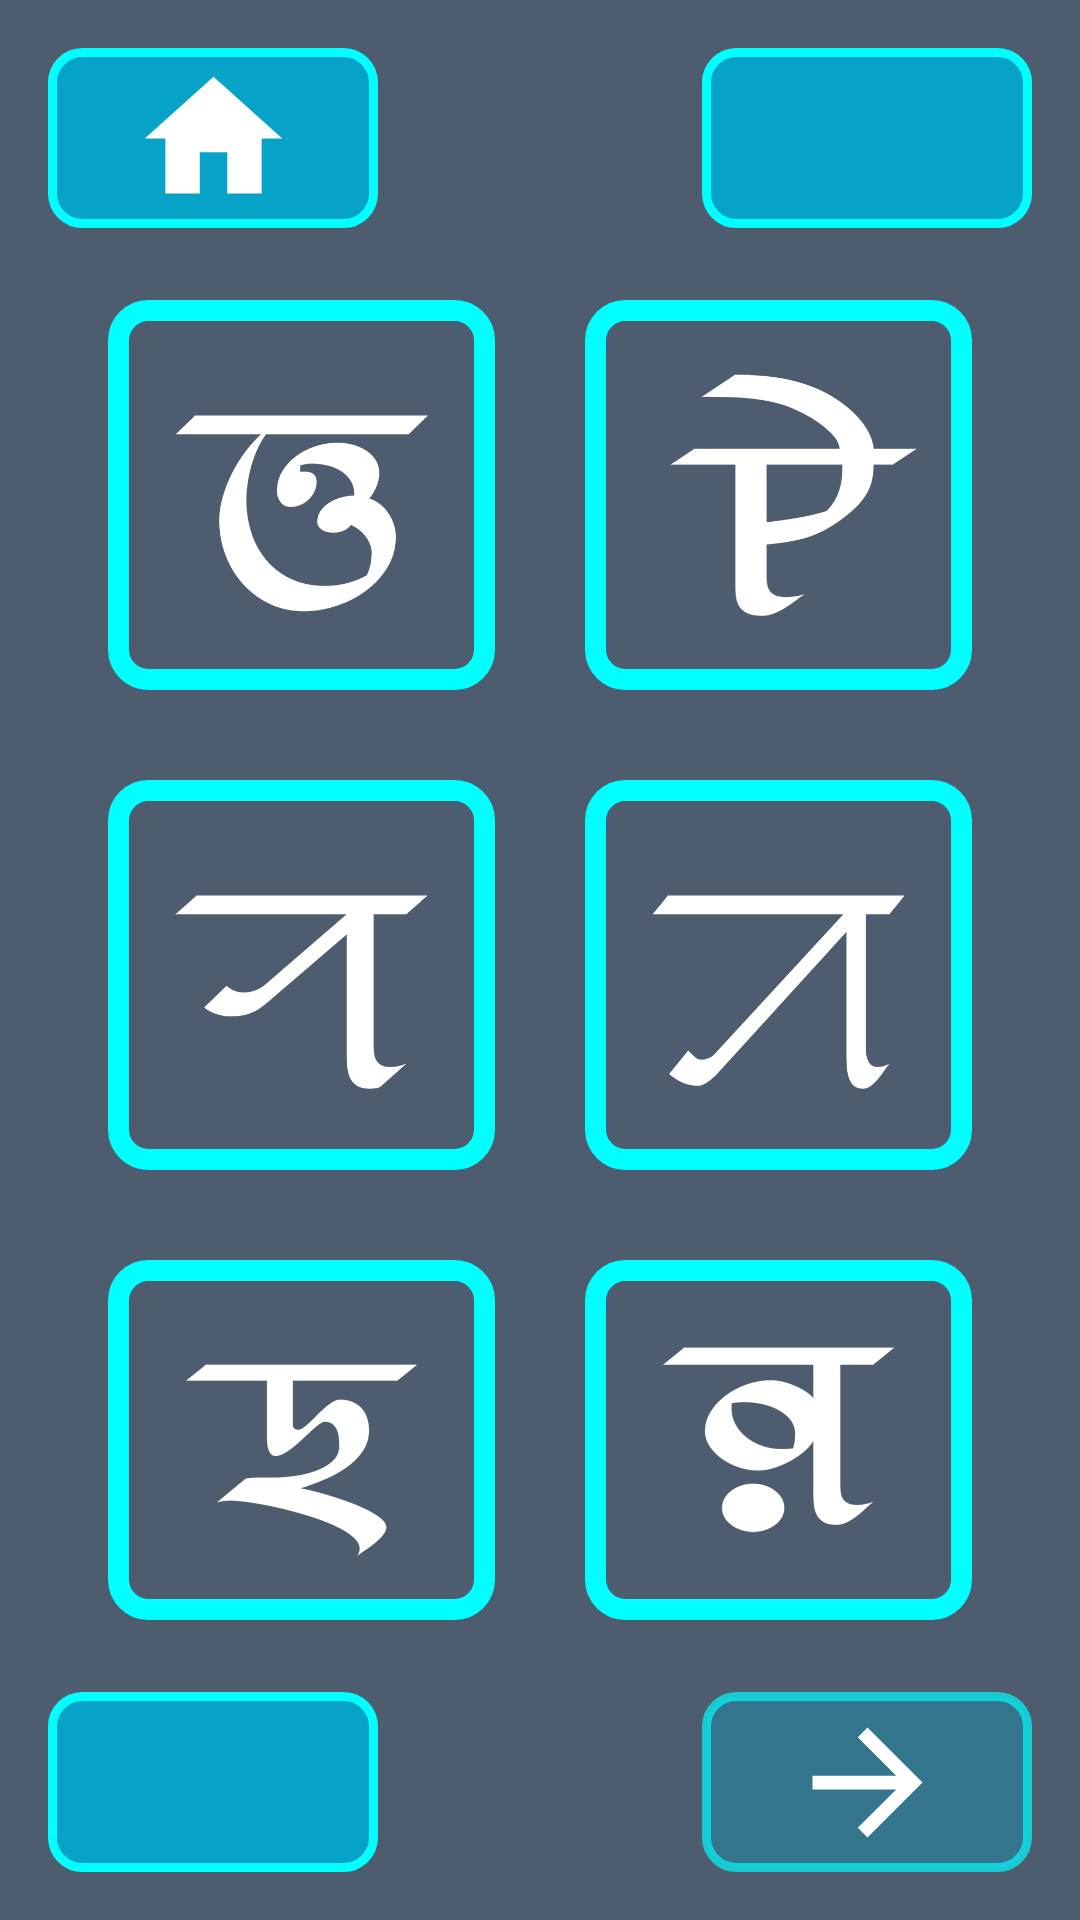

Icon bounding boxes for this 1080w x 1920h phone screenshot, format (x1, y1, x2, y2):
arrow forward: (702, 1692, 1032, 1872)
home: (48, 48, 378, 228)
